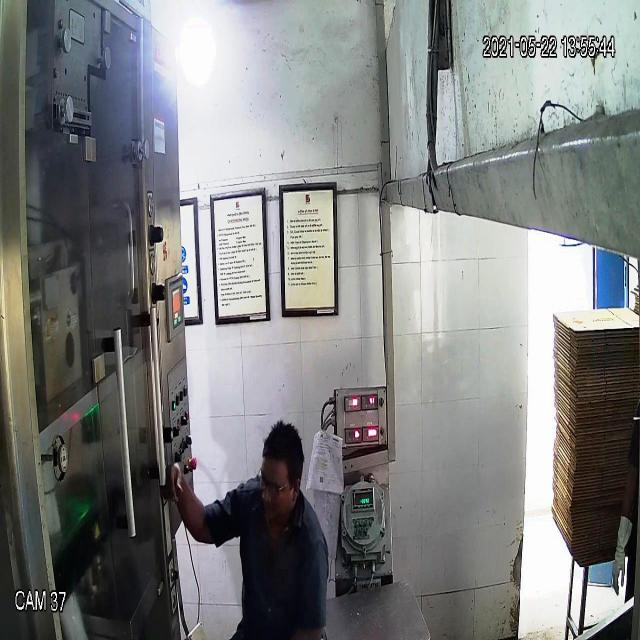glasses: (254, 464, 304, 504)
